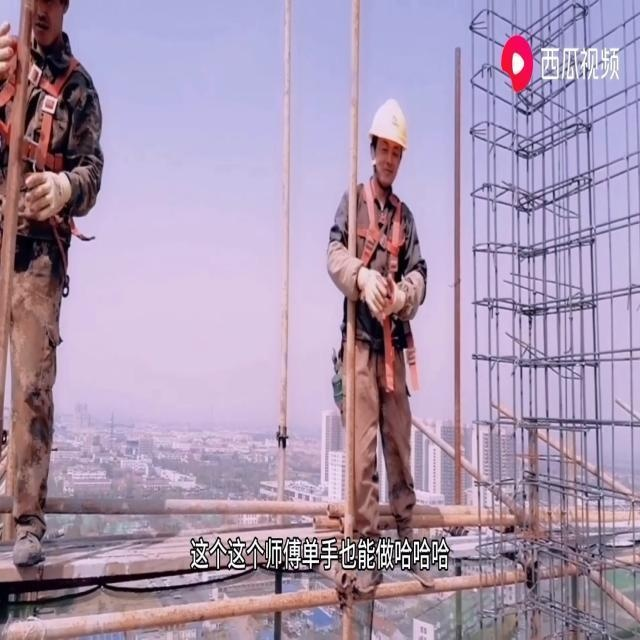Arnes_seguridad: (0, 23, 86, 241), (354, 170, 413, 308)
